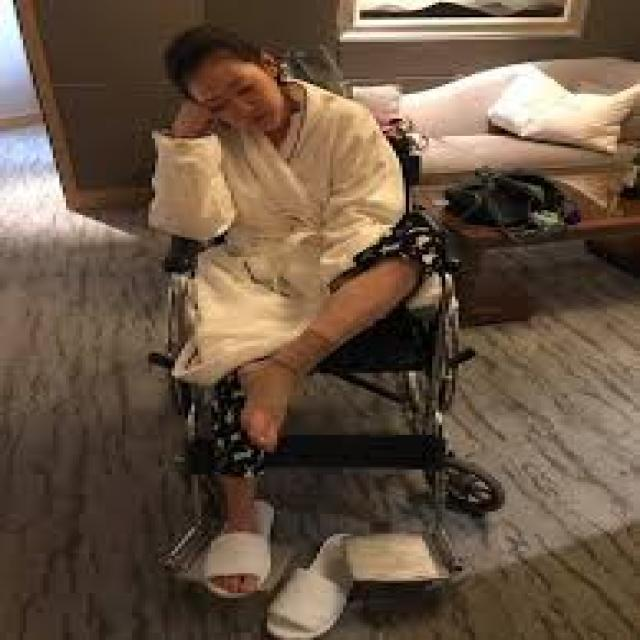wheelchairs: (138, 134, 534, 610)
